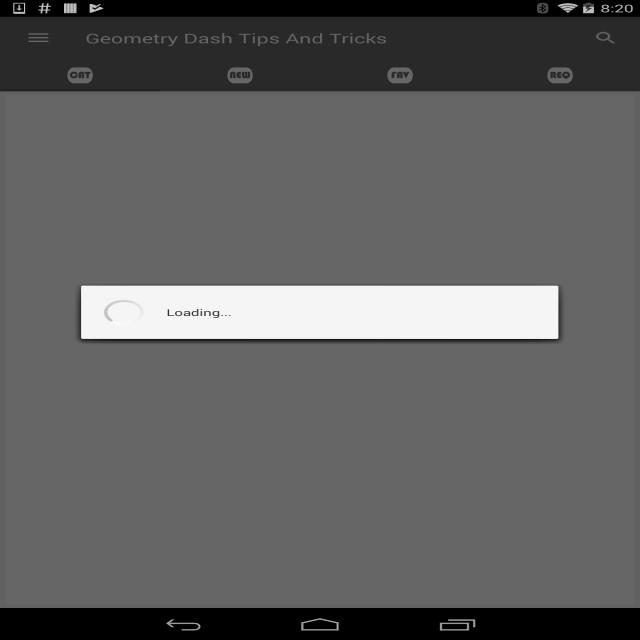ImageButton: (9, 17, 68, 59)
ImageView: (7, 96, 84, 144), (7, 148, 84, 196), (7, 200, 84, 248), (7, 252, 84, 300), (7, 304, 84, 352), (7, 356, 84, 404), (7, 408, 84, 456), (7, 512, 84, 560), (7, 564, 84, 612), (7, 461, 84, 508), (67, 68, 93, 84), (227, 68, 253, 84), (387, 68, 413, 84), (547, 68, 573, 84)
TextView: (95, 113, 632, 128), (95, 165, 632, 180), (95, 217, 632, 232), (95, 269, 632, 284), (95, 321, 632, 336), (95, 373, 632, 388), (95, 425, 632, 440), (95, 477, 632, 492), (95, 529, 632, 544), (95, 581, 632, 596), (85, 29, 388, 47), (580, 22, 632, 54)
